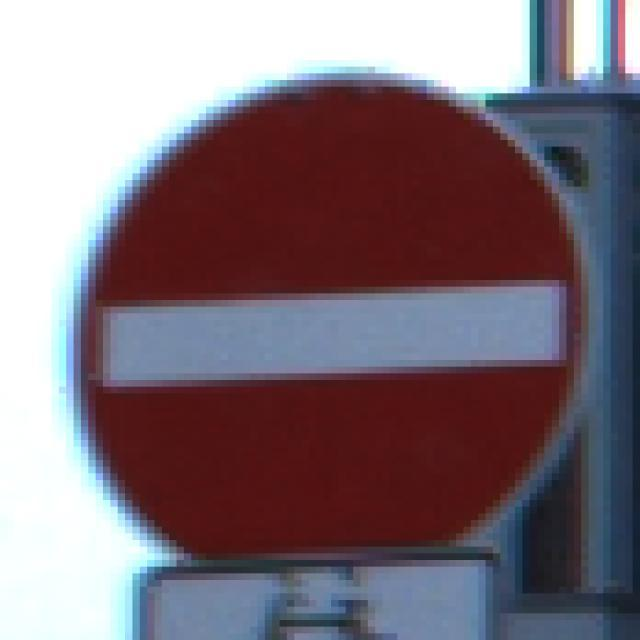no entry: (58, 73, 594, 557)
